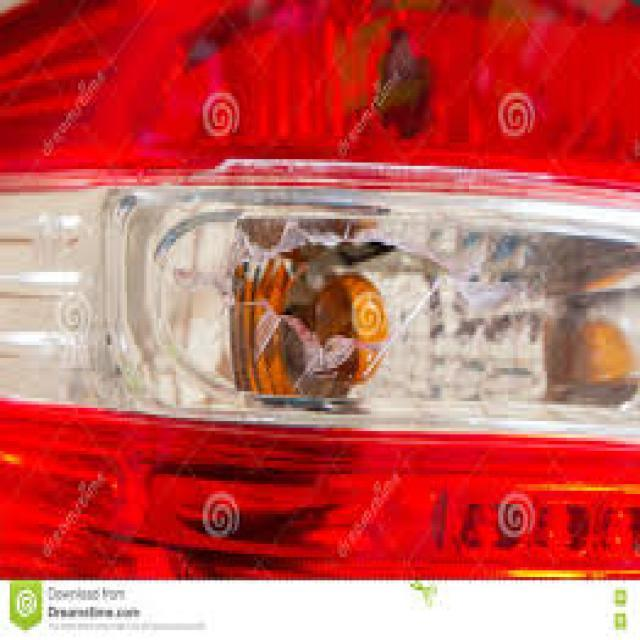damaged-tail-light: (0, 1, 640, 578)
